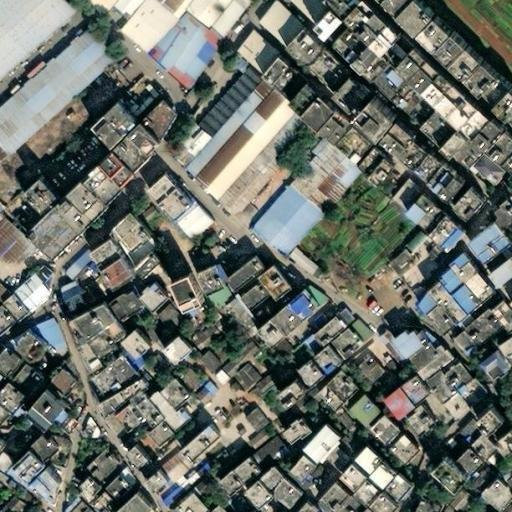building: (198, 103, 301, 216), (178, 78, 278, 187), (139, 0, 243, 88), (242, 183, 316, 258), (18, 95, 93, 164), (282, 142, 352, 213), (54, 182, 110, 239), (432, 80, 488, 135), (26, 211, 80, 265), (164, 114, 214, 169), (52, 262, 101, 315), (103, 140, 152, 191), (325, 120, 373, 168), (249, 1, 297, 48), (113, 70, 161, 117), (404, 54, 451, 100), (96, 108, 142, 154), (5, 263, 46, 313), (226, 29, 271, 73), (87, 358, 133, 401), (147, 179, 190, 223), (428, 284, 469, 328), (372, 61, 414, 103), (478, 124, 512, 175), (86, 169, 127, 210), (373, 110, 414, 151), (468, 226, 509, 267), (79, 305, 122, 344), (137, 100, 175, 143), (393, 83, 437, 120), (311, 54, 351, 94), (265, 61, 305, 101), (384, 34, 424, 74), (314, 373, 353, 412), (290, 34, 329, 72), (396, 135, 434, 173), (307, 100, 345, 138), (406, 8, 444, 46), (459, 311, 498, 348), (437, 174, 475, 211), (407, 199, 445, 236), (179, 430, 218, 466), (304, 428, 340, 465), (18, 186, 54, 222), (423, 114, 460, 149), (471, 152, 507, 187), (23, 318, 58, 353), (28, 176, 63, 211), (92, 242, 127, 277), (368, 19, 403, 54), (341, 84, 376, 119), (420, 156, 455, 191), (421, 370, 455, 406), (11, 453, 45, 488), (37, 398, 71, 433), (457, 56, 491, 91), (427, 216, 461, 251), (440, 464, 474, 498), (426, 27, 460, 61), (353, 5, 387, 39), (130, 128, 165, 161), (413, 351, 449, 383), (279, 248, 313, 281), (229, 330, 263, 363), (371, 332, 402, 368), (80, 450, 113, 483), (28, 472, 61, 505), (324, 16, 357, 49), (358, 48, 391, 81), (442, 42, 475, 75), (128, 393, 160, 427), (478, 480, 512, 512), (310, 318, 343, 350), (107, 261, 140, 293), (122, 333, 154, 366), (393, 330, 426, 362), (457, 192, 489, 225), (385, 180, 417, 213), (390, 258, 423, 290), (71, 345, 102, 379), (228, 261, 262, 292), (282, 0, 325, 24), (171, 208, 203, 240), (346, 397, 378, 429), (110, 402, 142, 434), (8, 329, 40, 361), (293, 88, 325, 120), (480, 353, 512, 385), (259, 269, 290, 302), (182, 283, 212, 317), (320, 486, 359, 512), (473, 72, 505, 103), (378, 245, 410, 276), (142, 418, 173, 449), (386, 390, 417, 421), (441, 362, 472, 393), (353, 479, 384, 510), (165, 334, 196, 365), (269, 480, 300, 511), (354, 150, 385, 181), (452, 285, 482, 317), (235, 284, 266, 314), (452, 449, 482, 480), (382, 477, 413, 507), (346, 29, 377, 59), (220, 299, 249, 331), (114, 379, 146, 408), (389, 0, 424, 26), (283, 383, 313, 413), (405, 408, 435, 438), (8, 367, 38, 397), (119, 224, 149, 254), (451, 135, 481, 165), (290, 298, 320, 327), (354, 449, 384, 478), (111, 295, 141, 324), (158, 381, 187, 410), (439, 393, 468, 422), (466, 435, 495, 464), (469, 115, 498, 144), (437, 268, 466, 297), (247, 436, 277, 464), (246, 484, 276, 512), (366, 418, 395, 446), (385, 437, 413, 466), (138, 285, 166, 314), (451, 256, 479, 285), (55, 253, 85, 280), (312, 347, 340, 375), (43, 371, 71, 399), (338, 40, 366, 68), (369, 162, 397, 190), (160, 407, 188, 434), (403, 378, 430, 406), (455, 380, 483, 407), (341, 467, 368, 495), (130, 251, 158, 278), (282, 420, 310, 447), (423, 308, 450, 336), (487, 84, 512, 114), (218, 473, 245, 500), (73, 476, 100, 503), (100, 475, 127, 502), (484, 415, 511, 442), (85, 489, 116, 512), (489, 258, 512, 289), (145, 474, 172, 500), (269, 308, 296, 334), (329, 330, 355, 357), (370, 465, 396, 492), (26, 438, 52, 465), (489, 200, 512, 230), (159, 456, 185, 482), (233, 461, 259, 487), (293, 362, 319, 388), (154, 483, 181, 508), (145, 391, 170, 418), (199, 269, 223, 297), (491, 304, 512, 335), (183, 379, 209, 404), (235, 407, 260, 433), (278, 319, 304, 344), (93, 413, 118, 439), (293, 459, 318, 485), (448, 332, 473, 358), (105, 0, 137, 20), (351, 358, 376, 383), (166, 488, 193, 511), (367, 493, 399, 512), (149, 304, 173, 329), (229, 364, 253, 389), (257, 323, 281, 348), (453, 420, 477, 445), (96, 397, 121, 421), (466, 274, 490, 299), (190, 349, 214, 373), (187, 324, 211, 348), (259, 469, 283, 493), (411, 295, 435, 319), (398, 232, 422, 255), (340, 346, 363, 369), (121, 356, 143, 379), (202, 365, 224, 387), (468, 465, 490, 487), (372, 352, 393, 375), (246, 373, 268, 394), (239, 428, 261, 449), (342, 320, 363, 342), (321, 450, 342, 471), (126, 450, 147, 471), (173, 371, 194, 391), (355, 340, 376, 360), (112, 326, 132, 346), (496, 472, 512, 497), (498, 99, 512, 127), (497, 337, 512, 363), (255, 395, 274, 415), (411, 498, 438, 512), (296, 335, 314, 354), (173, 471, 191, 489), (140, 355, 158, 373), (441, 494, 459, 512), (418, 246, 436, 264), (254, 382, 273, 399), (207, 290, 227, 306), (185, 479, 203, 496), (267, 446, 284, 462), (432, 438, 448, 455), (112, 469, 128, 486), (331, 309, 346, 326), (328, 412, 343, 428), (57, 498, 74, 512), (112, 435, 127, 449), (270, 409, 284, 423), (280, 404, 294, 418), (177, 399, 191, 412), (503, 442, 512, 459), (214, 264, 225, 274), (9, 505, 23, 512), (216, 257, 227, 265), (278, 443, 287, 452), (0, 481, 9, 490), (304, 421, 312, 428)
